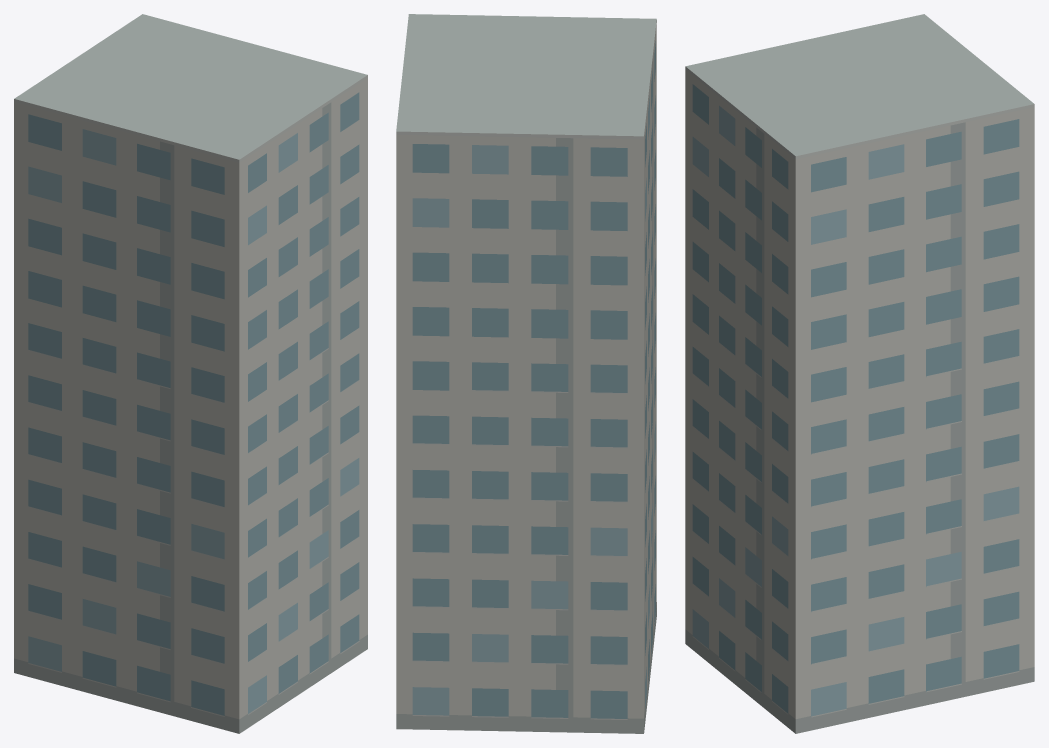
File: residential-e82c6013-a635-41d0-9dec-d86aa2479624.glb
The picture shows the model from 3 angles, left to right: view 1: azimuth 30°, elevation 25°; view 2: azimuth 150°, elevation 25°; view 3: azimuth 270°, elevation 25°; orthographic projection. The views are drawn at different scales.
Parts seen in each view (by area): view 1: residential-e82c6013-a635-41d0-9dec-d86aa2479624.tmp; view 2: residential-e82c6013-a635-41d0-9dec-d86aa2479624.tmp; view 3: residential-e82c6013-a635-41d0-9dec-d86aa2479624.tmp.
Part boxes in pixels (bbox=[...]): residential-e82c6013-a635-41d0-9dec-d86aa2479624.tmp: bbox=[14, 14, 367, 733]; residential-e82c6013-a635-41d0-9dec-d86aa2479624.tmp: bbox=[396, 14, 656, 733]; residential-e82c6013-a635-41d0-9dec-d86aa2479624.tmp: bbox=[685, 14, 1034, 733].
Size of the model in its own units: 23.79 by 45 by 24.67.
